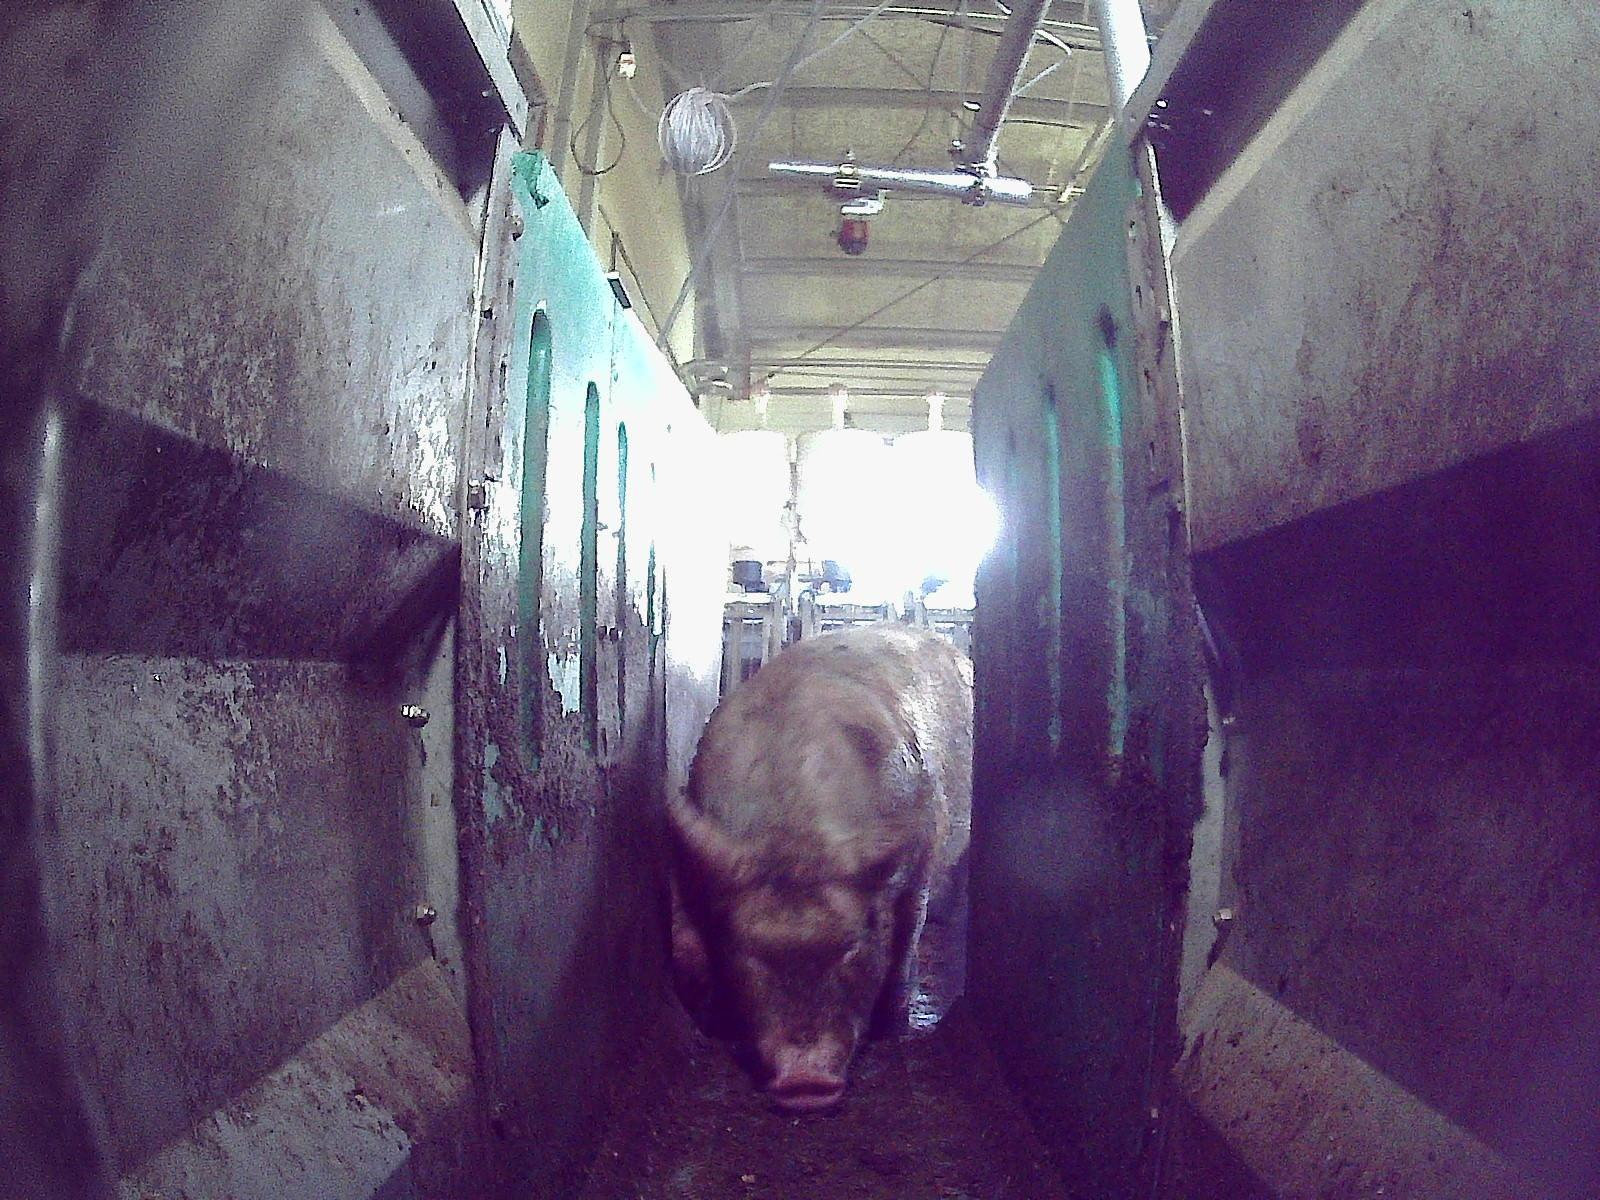Face: (710, 813, 897, 1109)
